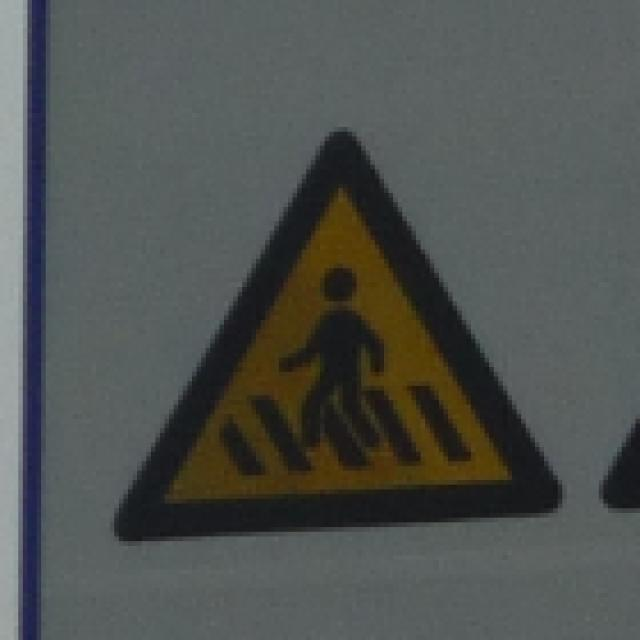Crossing: (105, 121, 569, 544)
